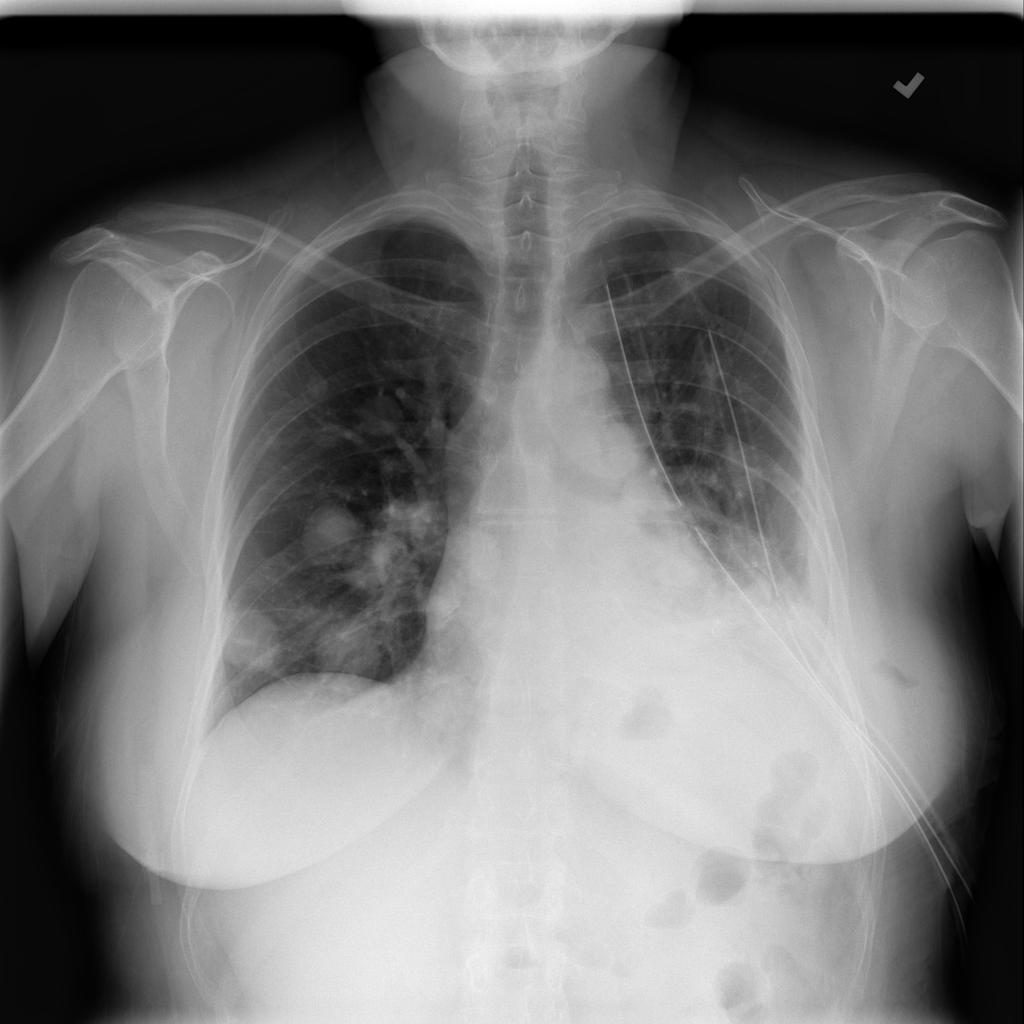nodule: (208, 601, 294, 681), (304, 613, 389, 686), (408, 661, 480, 743), (640, 530, 714, 606), (351, 523, 418, 599), (450, 513, 511, 592), (298, 494, 368, 562), (346, 381, 413, 450), (413, 570, 475, 639), (293, 360, 343, 410), (299, 407, 348, 457)
